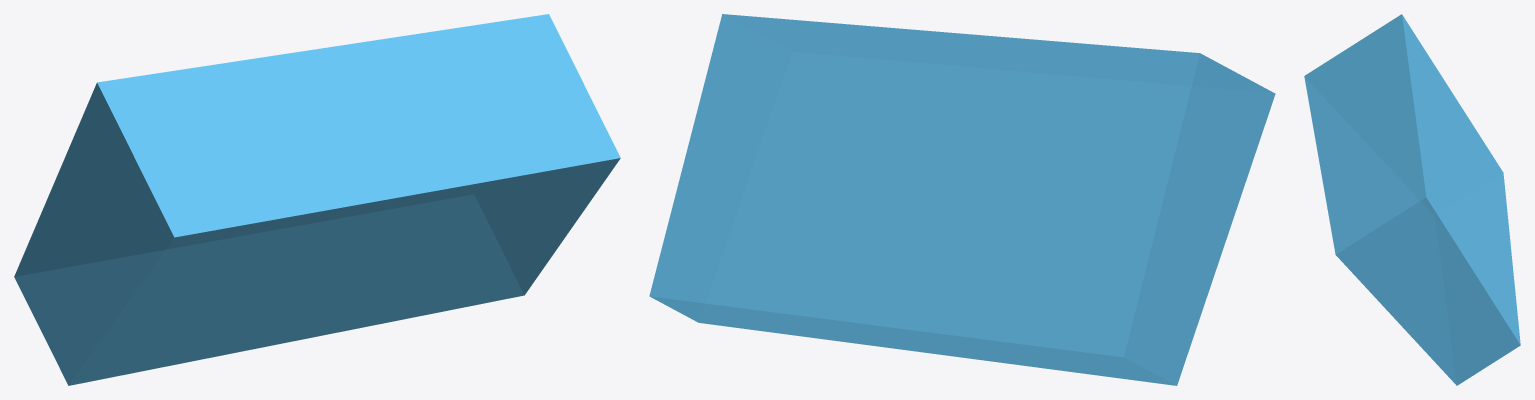
File: Event_420604493_HErechit_54.fbx
3 renders of one model, left to right at view 1: azimuth 30°, elevation 25°; view 2: azimuth 150°, elevation 25°; view 3: azimuth 270°, elevation 25°, orthographic. The views are drawn at different scales.
Parts seen in each view (by area): view 1: Model; view 2: Model; view 3: Model.
Boxes of the visible parts, box(x1,y1,x2,y2) form: Model: box(14, 14, 620, 385); Model: box(649, 14, 1275, 385); Model: box(1304, 14, 1520, 385).
Size of the model in its own units: 0.8535 by 0.6198 by 0.5359.
